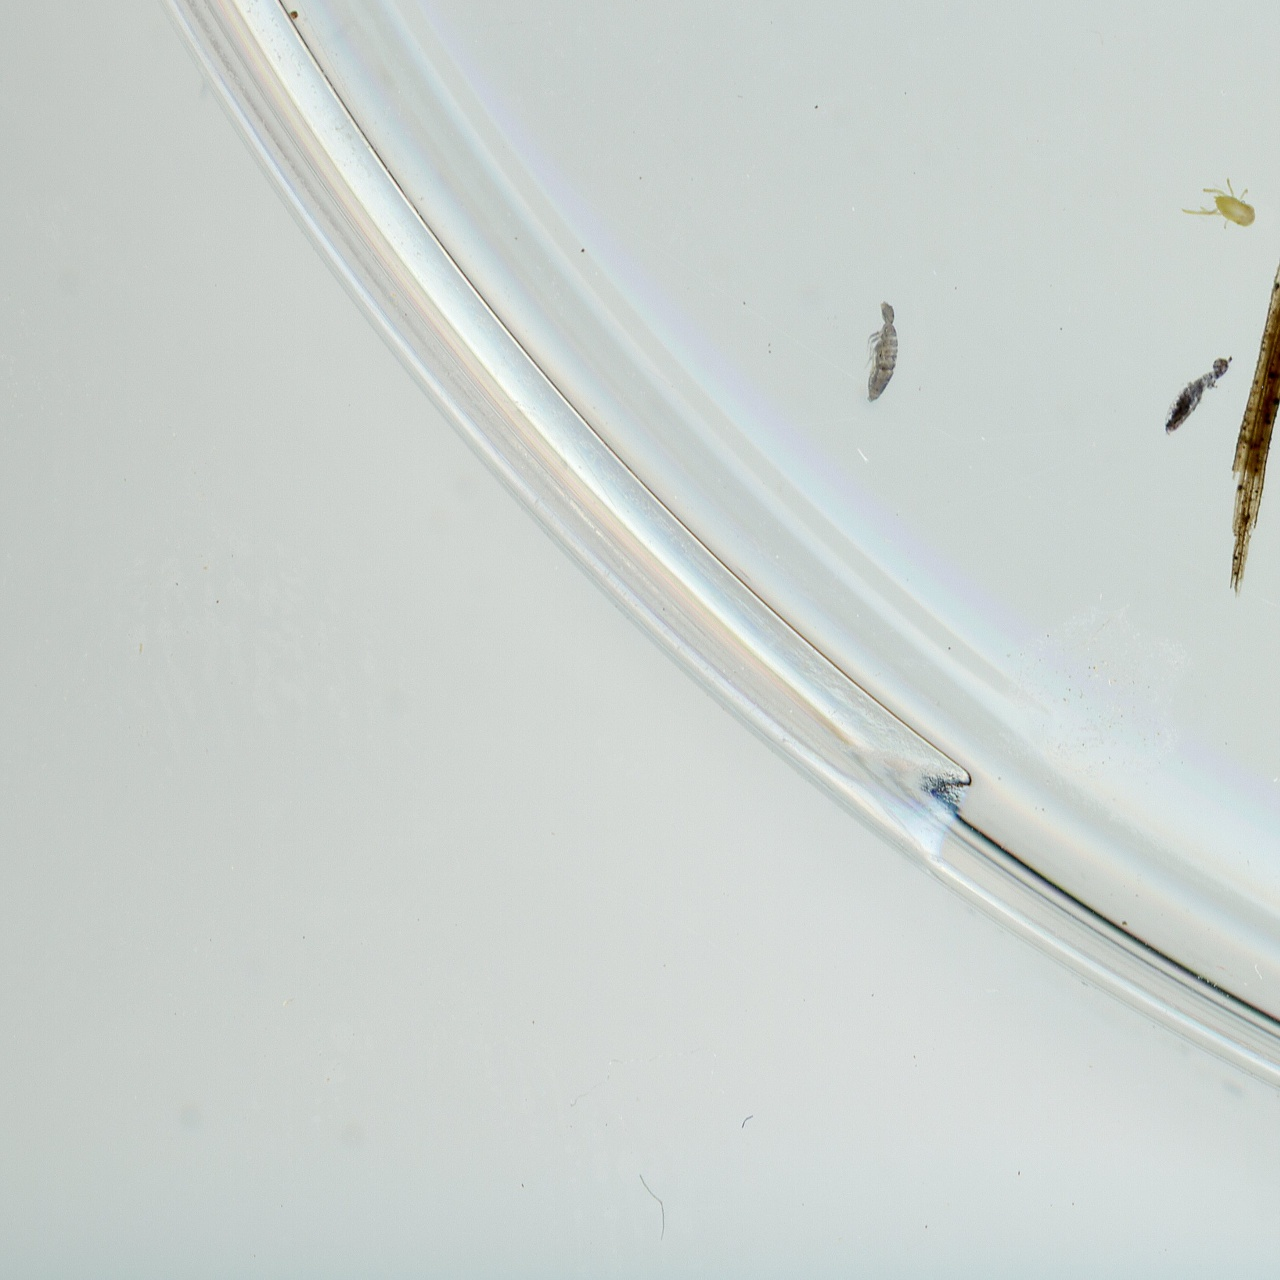arthropod: (1140, 327, 1247, 463), (858, 293, 906, 421), (1179, 177, 1257, 231)
